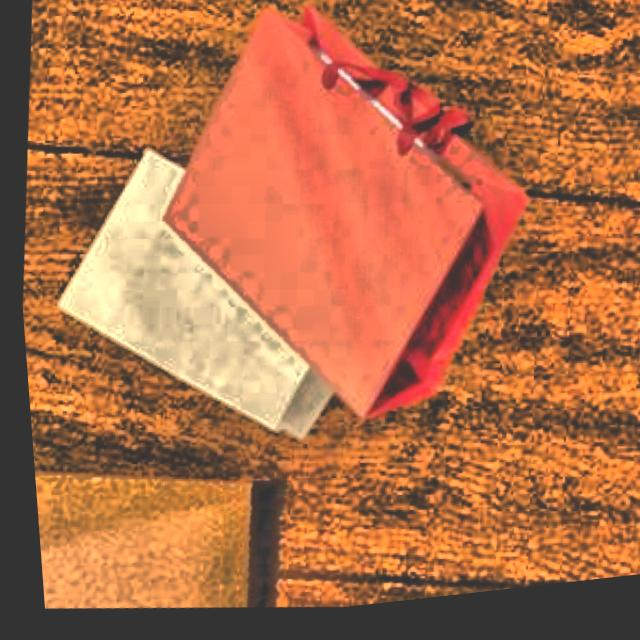Paper-bag: (122, 0, 565, 486), (36, 96, 412, 474)
